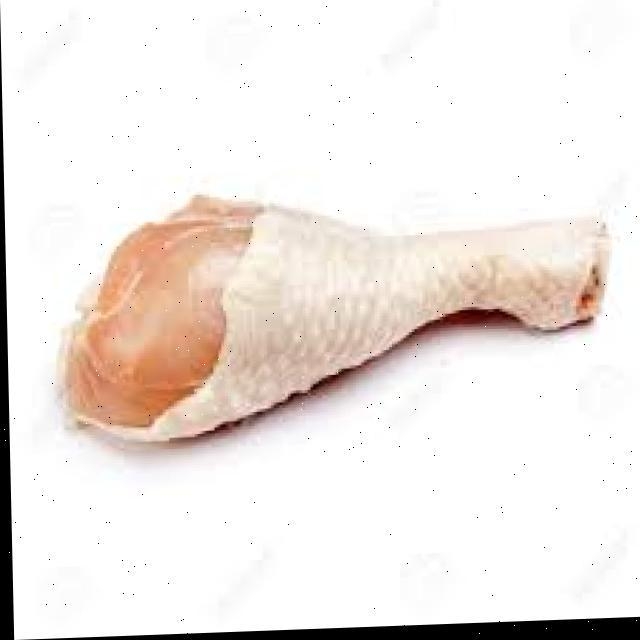leg: (53, 175, 621, 462)
